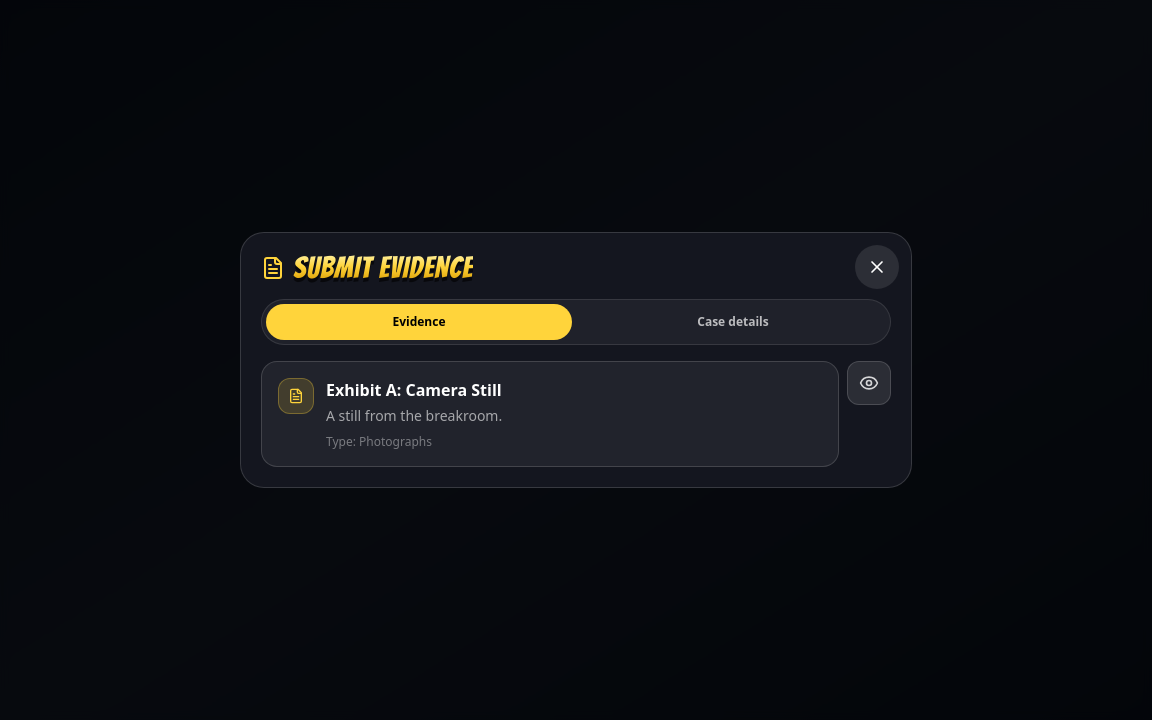
it: case details inside the trial pop-ups › the eye on evidence shows its content, including exhibits already submitted
The image size is (1152, 720).
Click the button named "View Camera Still".
click(869, 383)  # box [847,361,891,405]
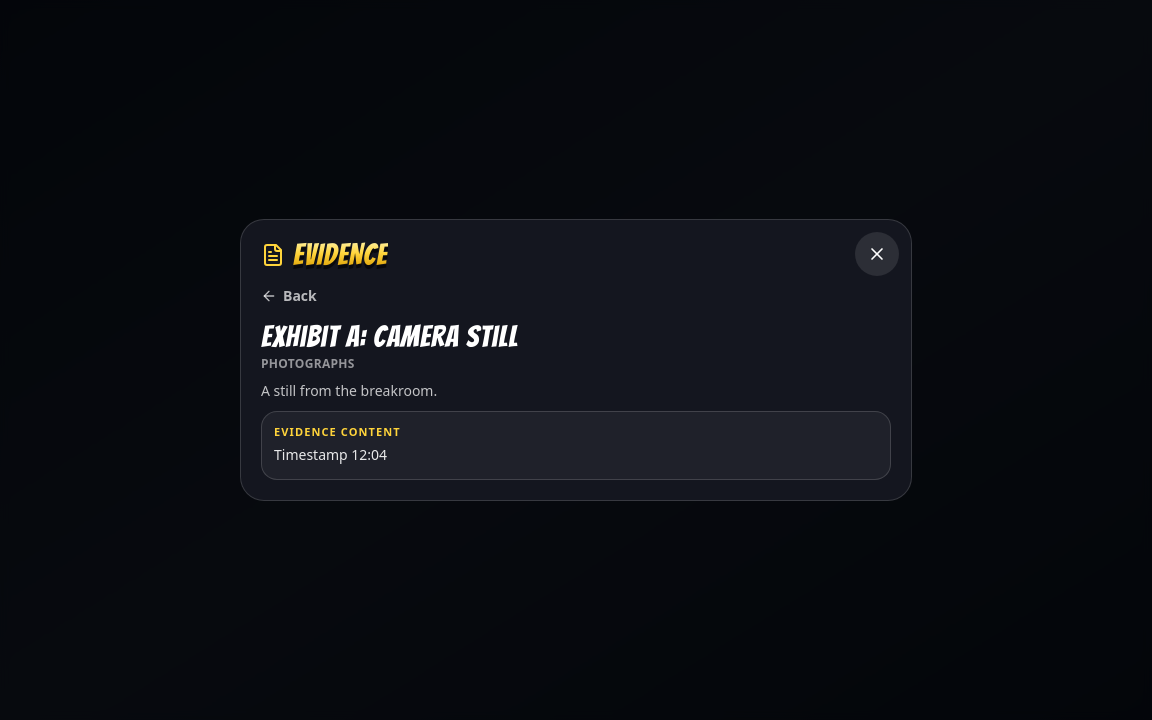
Now the text "Timestamp 12:04" is shown, box [274,445,387,464]
Click the button "Back".
click(289, 296)  # box [261,286,317,306]
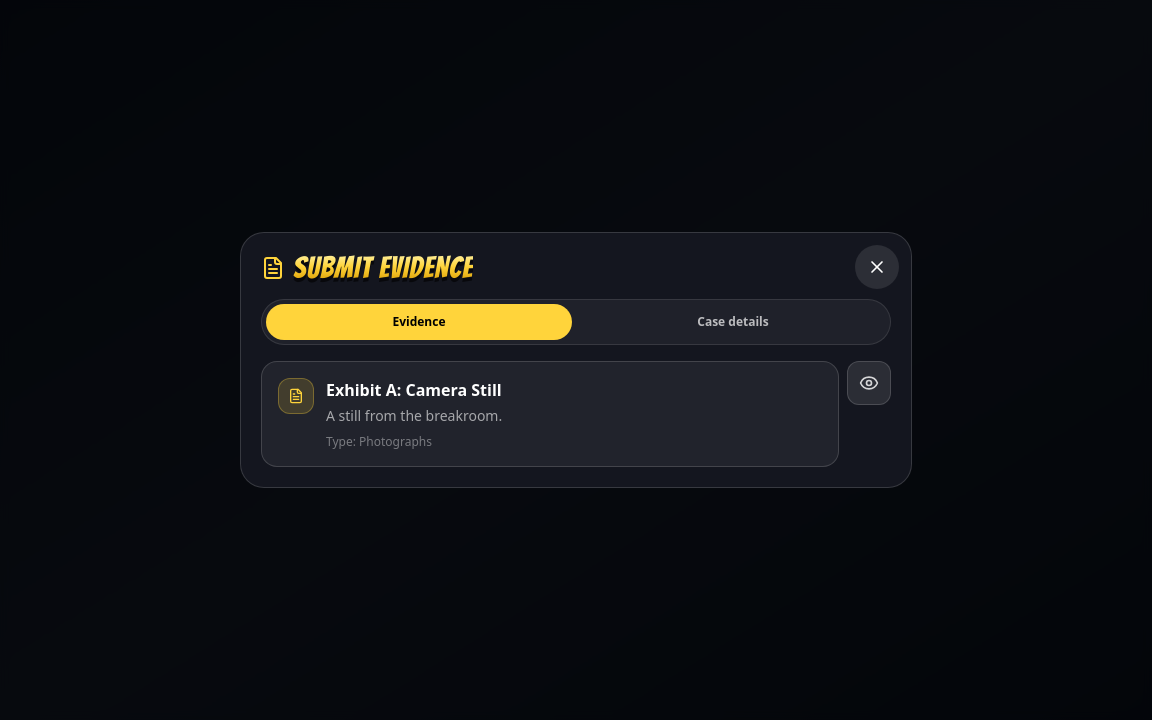
Click the tab "Case details".
click(733, 322)  # box [580,304,886,340]
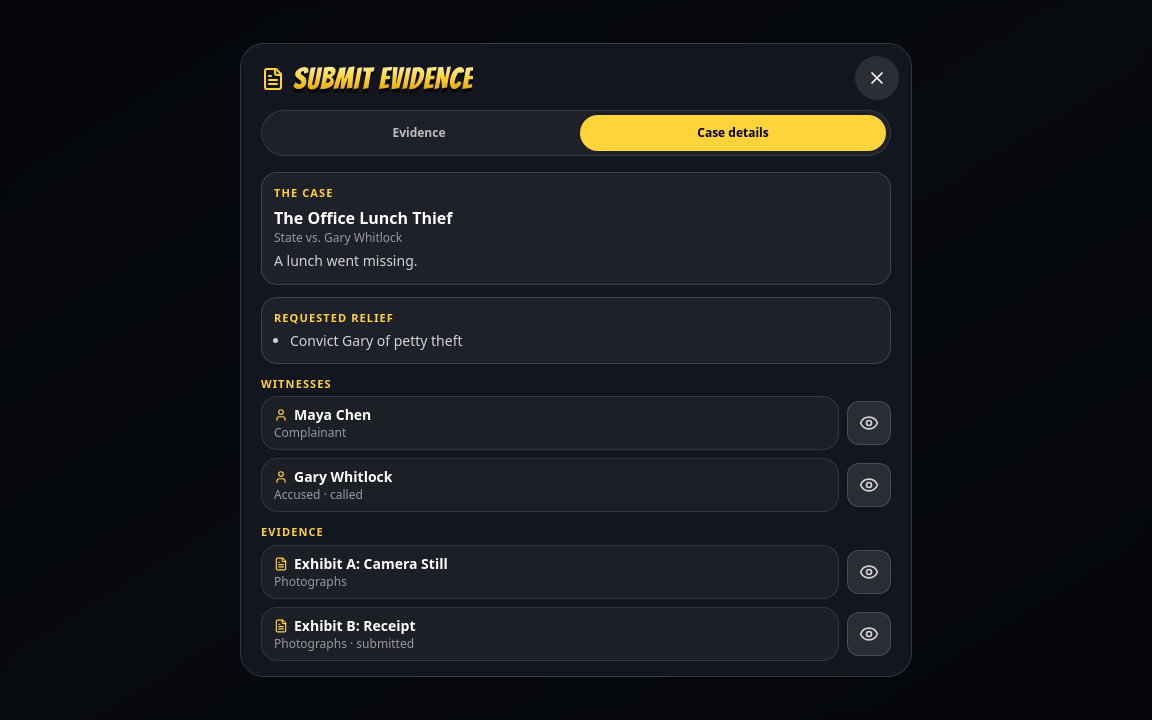
Click the button named "View Receipt".
click(869, 634)  # box [847,612,891,656]
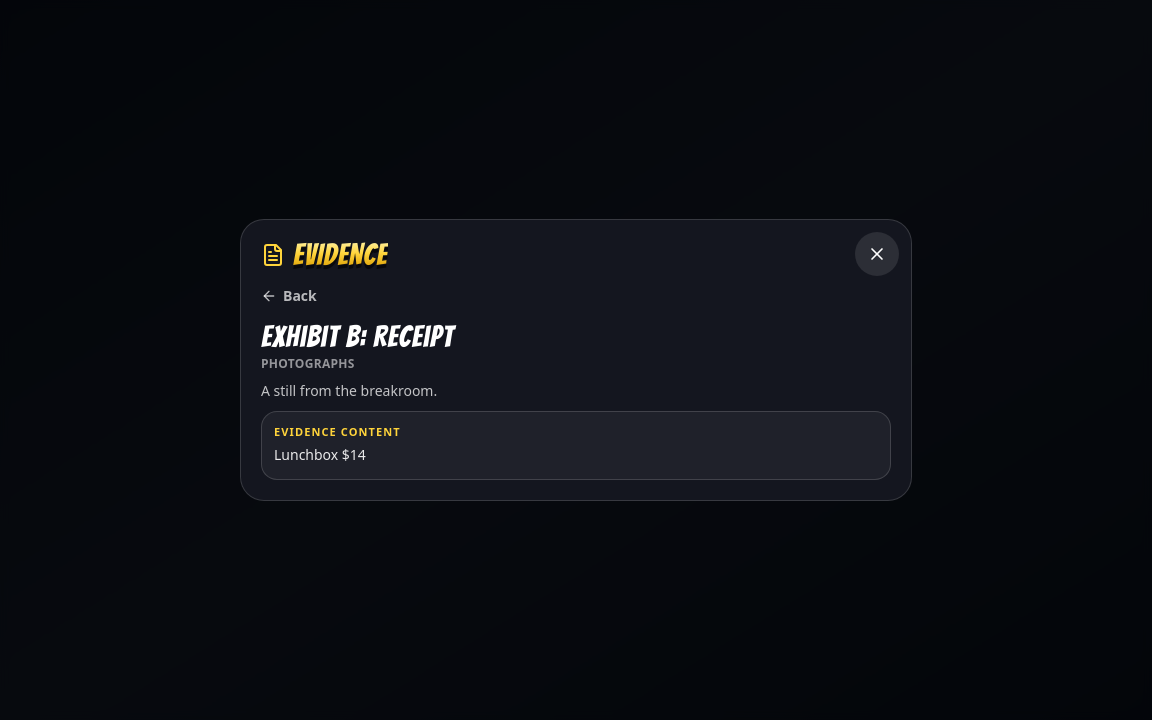
Now the text "Lunchbox $14" is shown, box [274,445,366,464]
